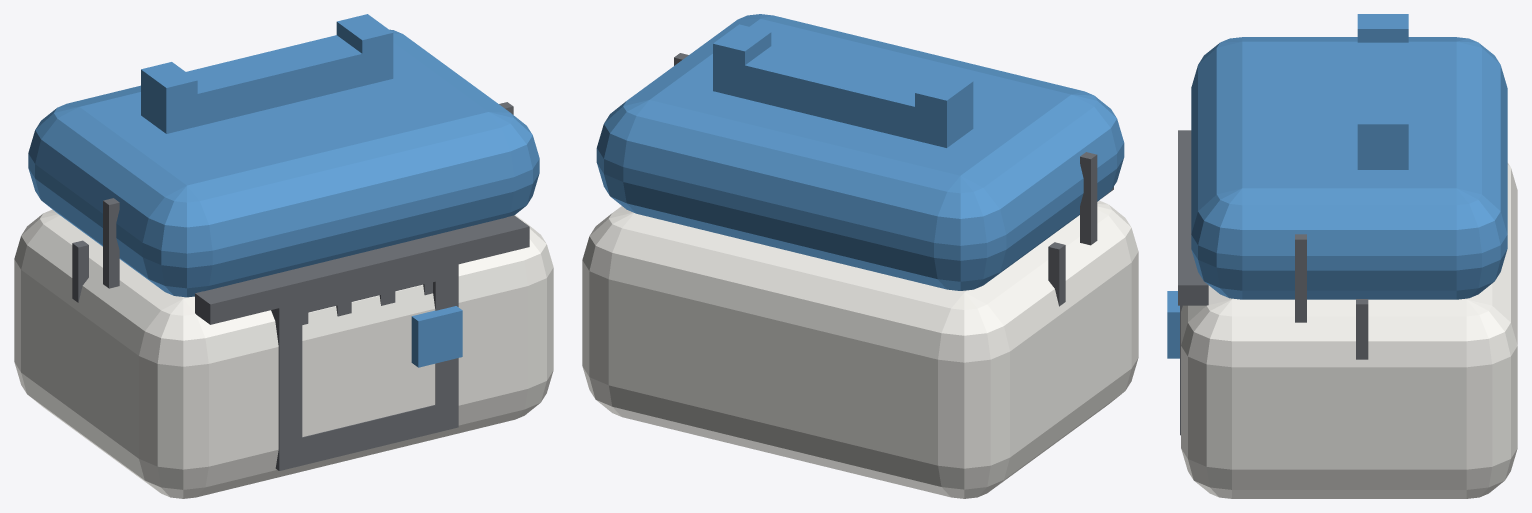
Rendered from boarding-kennels-and-cattery-boarding-kennels-and-catt-7d0fa395__35551.glb.
3 renders of one model, left to right at view 1: azimuth 30°, elevation 25°; view 2: azimuth 150°, elevation 25°; view 3: azimuth 270°, elevation 25°, orthographic. The views are drawn at different scales.
Visible parts, largest first — view 1: boarding-kennels-and-cattery-cat-carrier, carrier-door/charcoal, carrier-door/blue; view 2: boarding-kennels-and-cattery-cat-carrier; view 3: boarding-kennels-and-cattery-cat-carrier, carrier-door/blue.
Boxes of the visible parts, bbox=[...] form: boarding-kennels-and-cattery-cat-carrier: bbox=[14, 14, 553, 498]; carrier-door/charcoal: bbox=[271, 264, 458, 470]; carrier-door/blue: bbox=[411, 306, 462, 367]; boarding-kennels-and-cattery-cat-carrier: bbox=[582, 14, 1138, 498]; boarding-kennels-and-cattery-cat-carrier: bbox=[1178, 14, 1517, 498]; carrier-door/blue: bbox=[1167, 291, 1179, 358].
Size of the model in its own units: 0.46 by 0.376 by 0.3435.
